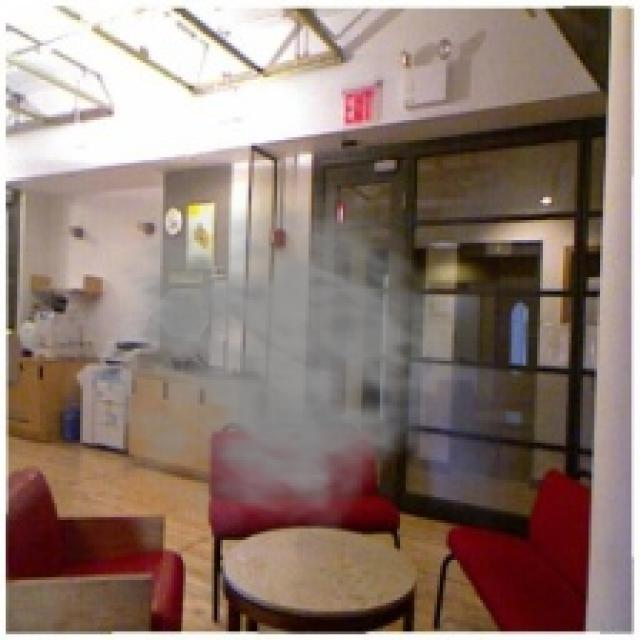smoke: (54, 188, 463, 552)
